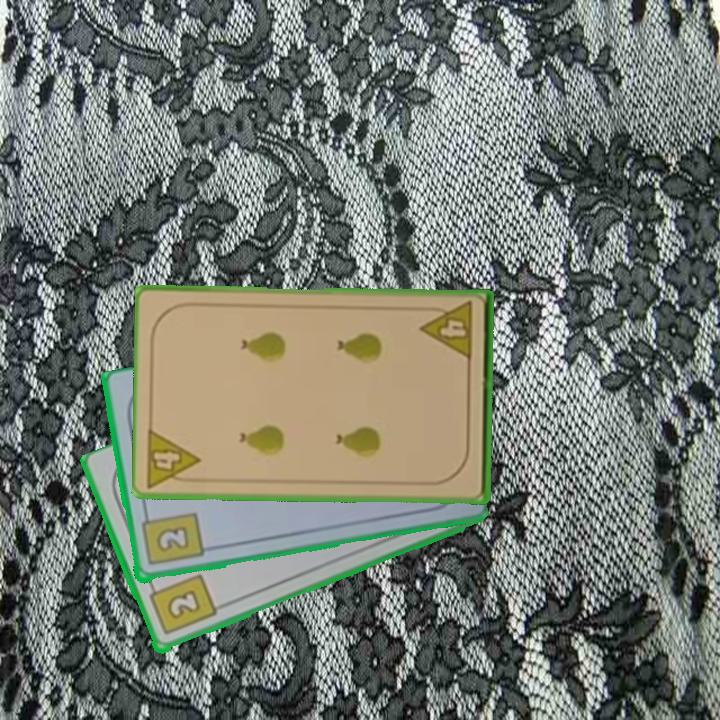2b: (145, 571, 219, 639), (137, 507, 206, 569)
4p: (144, 425, 205, 490), (419, 298, 476, 363)
